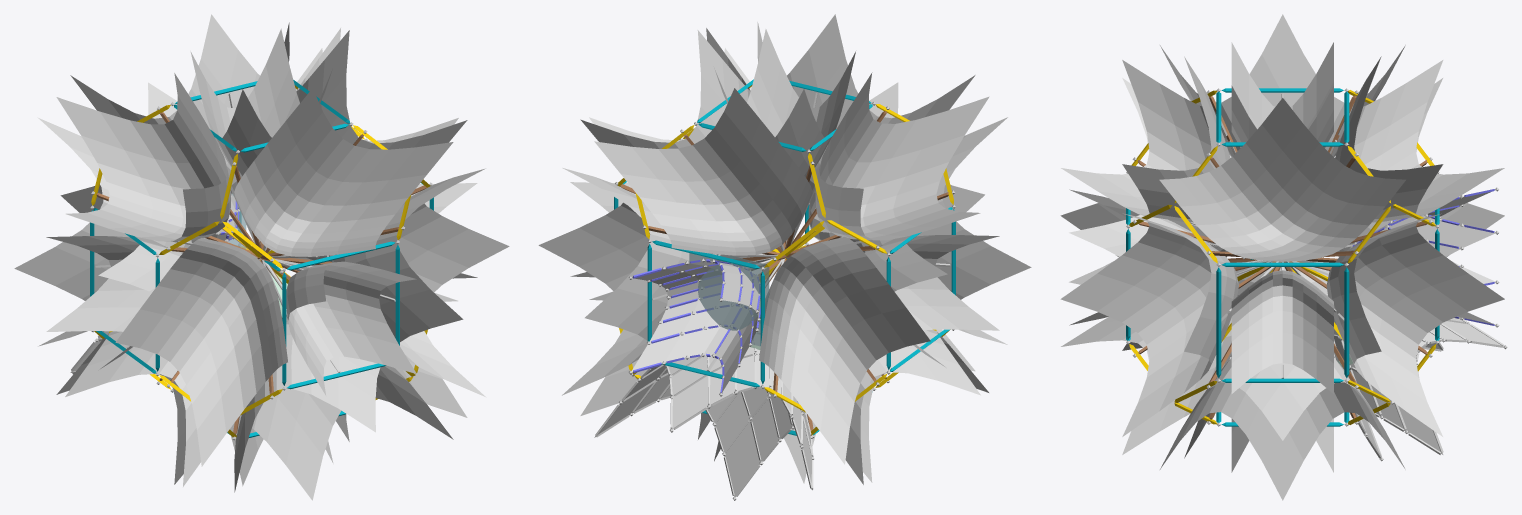
The model's file is shape_crystal.glb.
3 views of the same model, side by side, from view 1: azimuth 30°, elevation 25°; view 2: azimuth 150°, elevation 25°; view 3: azimuth 270°, elevation 25° (orthographic). The views are drawn at different scales.
Parts seen in each view (by area): view 1: shape447-material, shape663-material, shape863-material, shape999-material, shape458-material, shape902-material, shape605-material, shape966-material, shape32-material, shape819-material, shape1141-material, shape648-material (+66 smaller); view 2: shape625-material, shape1150-material, shape524-material, shape629-material, shape1008-material, shape888-material, shape941-material, shape785-material, shape1000-material, shape748-material, shape163-material, shape71-material (+63 smaller); view 3: shape898-material, shape128-material, shape902-material, shape941-material, shape1069-material, shape183-material, shape441-material, shape378-material, shape86-material, shape571-material, shape918-material, shape1076-material (+78 smaller).
Part boxes in pixels (bbox=[...]): shape447-material: bbox=[428, 229, 509, 267]; shape663-material: bbox=[14, 247, 95, 285]; shape863-material: bbox=[286, 421, 322, 500]; shape999-material: bbox=[201, 14, 237, 93]; shape458-material: bbox=[56, 97, 123, 149]; shape902-material: bbox=[400, 289, 463, 328]; shape605-material: bbox=[338, 377, 375, 432]; shape966-material: bbox=[403, 370, 467, 417]; shape32-material: bbox=[296, 393, 332, 455]; shape819-material: bbox=[408, 250, 468, 284]; shape1141-material: bbox=[402, 216, 468, 250]; shape648-material: bbox=[390, 142, 453, 179]; shape625-material: bbox=[689, 253, 769, 346]; shape1150-material: bbox=[538, 228, 618, 266]; shape524-material: bbox=[951, 246, 1031, 284]; shape629-material: bbox=[808, 14, 845, 93]; shape1008-material: bbox=[724, 420, 760, 497]; shape888-material: bbox=[922, 96, 989, 149]; shape941-material: bbox=[585, 288, 647, 326]; shape785-material: bbox=[580, 369, 642, 415]; shape1000-material: bbox=[579, 249, 639, 283]; shape748-material: bbox=[672, 375, 708, 429]; shape163-material: bbox=[579, 215, 645, 249]; shape71-material: bbox=[594, 141, 657, 179]; shape898-material: bbox=[1262, 14, 1303, 93]; shape128-material: bbox=[1262, 432, 1303, 500]; shape902-material: bbox=[1060, 273, 1133, 311]; shape941-material: bbox=[1432, 273, 1504, 311]; shape1069-material: bbox=[1262, 383, 1303, 440]; shape183-material: bbox=[1122, 60, 1174, 124]; shape441-material: bbox=[1391, 60, 1443, 124]; shape378-material: bbox=[1262, 98, 1303, 150]; shape86-material: bbox=[1097, 286, 1158, 322]; shape571-material: bbox=[1407, 286, 1467, 322]; shape918-material: bbox=[1097, 255, 1158, 285]; shape1076-material: bbox=[1407, 255, 1467, 285].
Bounding box in the file's own units: 0.7957 × 0.8 × 0.8.
